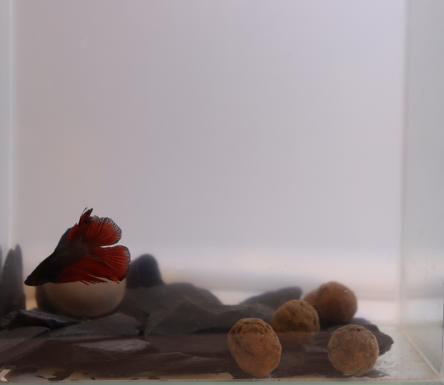fish: (23, 207, 132, 289)
